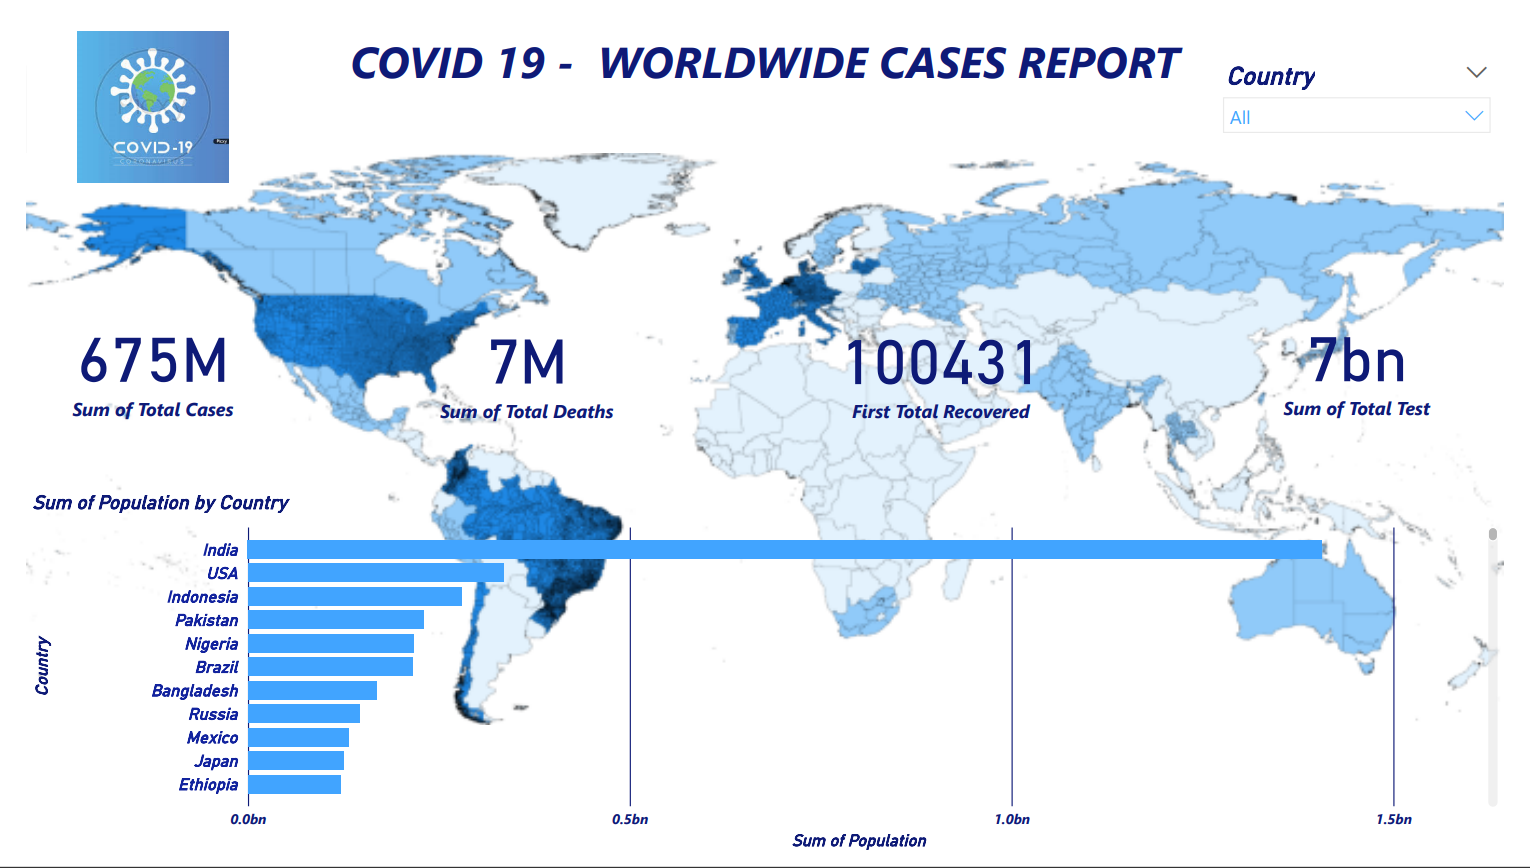

The page's visual inventory and layout, read from the dashboard file:
{"tool":"powerbi","page":{"name":"Page 1","canvas":[1280,720],"ordinal":0},"visuals":[{"type":"clusteredBarChart","fields":{"Category":["covid3.Country"],"Y":["Sum(covid3.Population)"]},"box":[0,403.4,1279.9,316.6],"z":0},{"type":"textbox","box":[0,0,1280.3,70],"z":1000},{"type":"image","box":[0,0,218.8,140.6],"z":2000},{"type":"slicer","fields":{"Values":["covid3.Country"]},"box":[1026.8,25.7,251.8,216.4],"z":3000},{"type":"card","fields":{"Values":["Sum(covid3.Total Cases)"]},"box":[0,218.8,218.8,150.4],"z":4000},{"type":"card","fields":{"Values":["Sum(covid3.Total Deaths)"]},"box":[310.5,220,249.4,150.4],"z":5000},{"type":"card","fields":{"Values":["Min(covid3.Total Recovered)"]},"box":[687,220,289.7,149.1],"z":7000},{"type":"card","fields":{"Values":["Sum(covid3.Total Test)"]},"box":[1025.6,211.5,253,149.1],"z":8000}]}

Visuals, with their boxes in screenshot pixels (x1, y1, x2, y2), scaled from the page's 1280x720 canvas onto the 1530x868 screenshot:
clusteredBarChart - covid3.Country x Sum(covid3.Population): [0,486,1529,867]
textbox: [0,0,1529,84]
image: [0,0,262,170]
slicer - covid3.Country: [1227,31,1528,292]
card - Sum(covid3.Total Cases): [0,264,262,445]
card - Sum(covid3.Total Deaths): [371,265,669,447]
card - Min(covid3.Total Recovered): [821,265,1167,445]
card - Sum(covid3.Total Test): [1226,255,1528,435]
